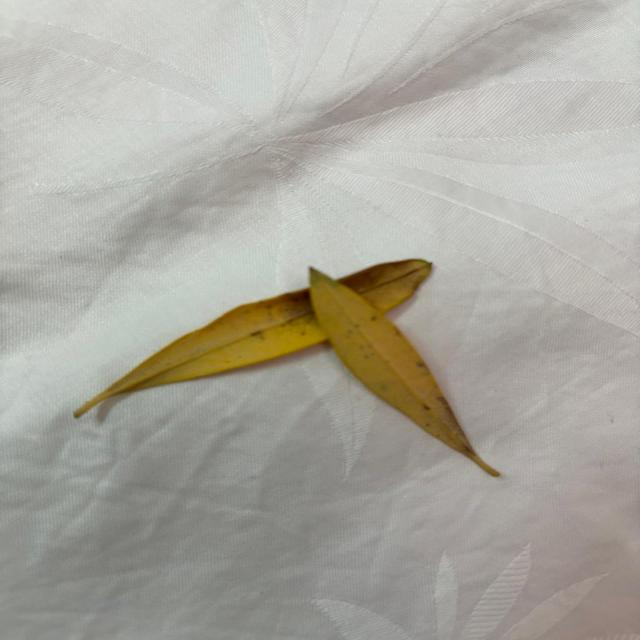Peacock Eye: (309, 269, 499, 476)
